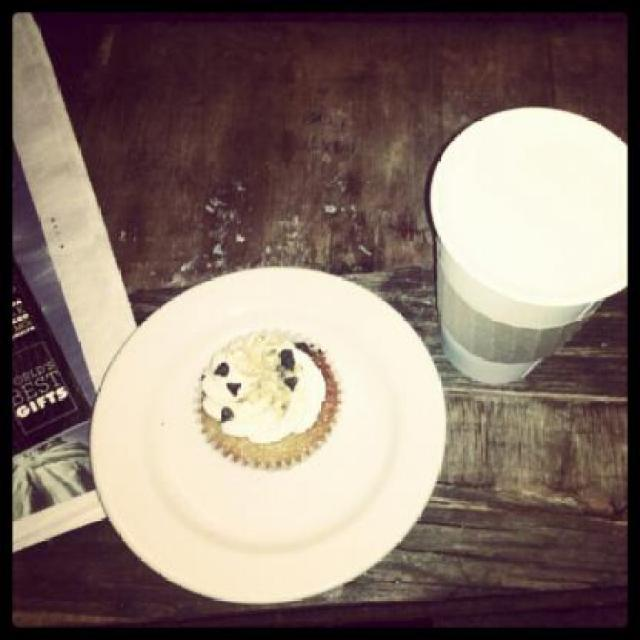Muffin: (209, 328, 342, 474)
